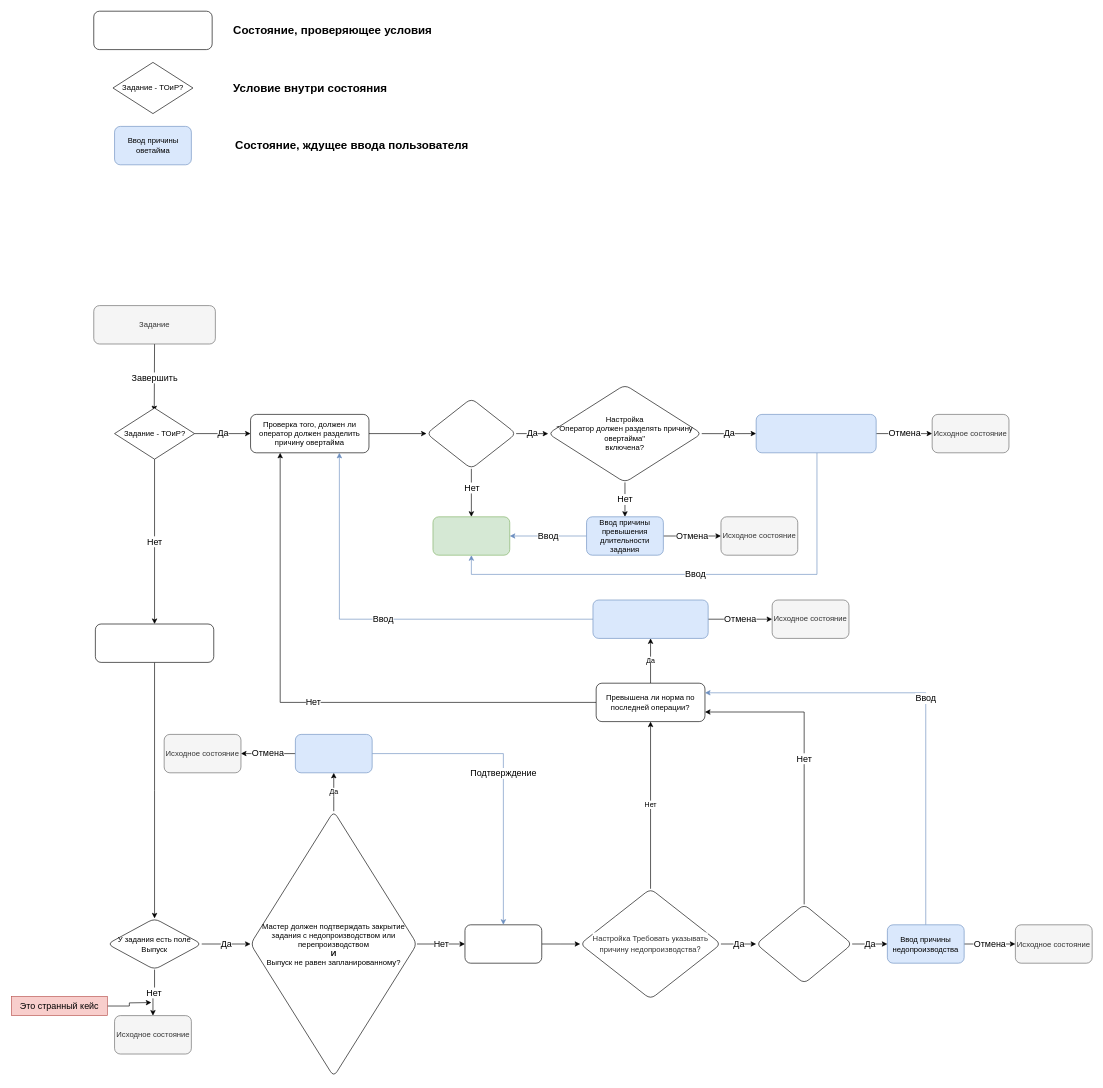
This 1103x1088 diagram has some shape labels left out. Each missing label, with the centre of its shape:
Ввод причины превышения последней операции: point 650,618
Есть ли недопроизводство по этому заданию?: point 804,944
Есть овертайм?: point 471,433
Завершение задания: point 471,535
Подтверждение мастером выпуска не по плану: point 333,753
Проверка недопроизводства: point 503,943
Проверка того, что производство равно запланированному: point 154,642
Проверка, нет ли недопроизводства/перепроизводства?: point 152,30
Разделение оветайма: point 816,433
